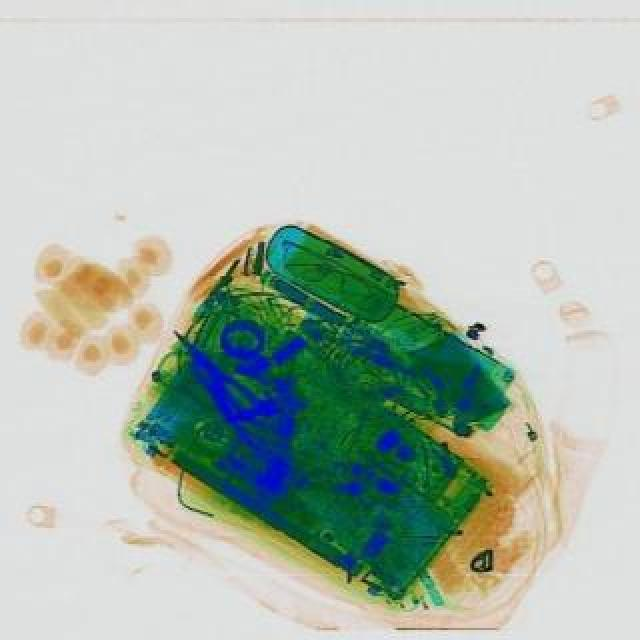wrench: (164, 320, 274, 432)
